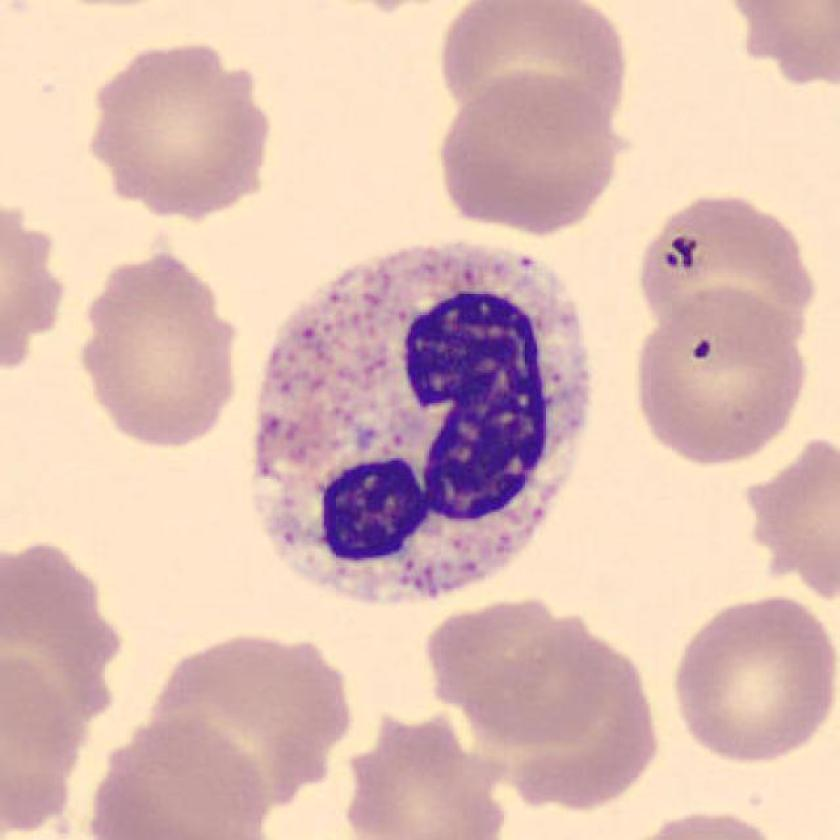neutrophil: (253, 241, 586, 601)
